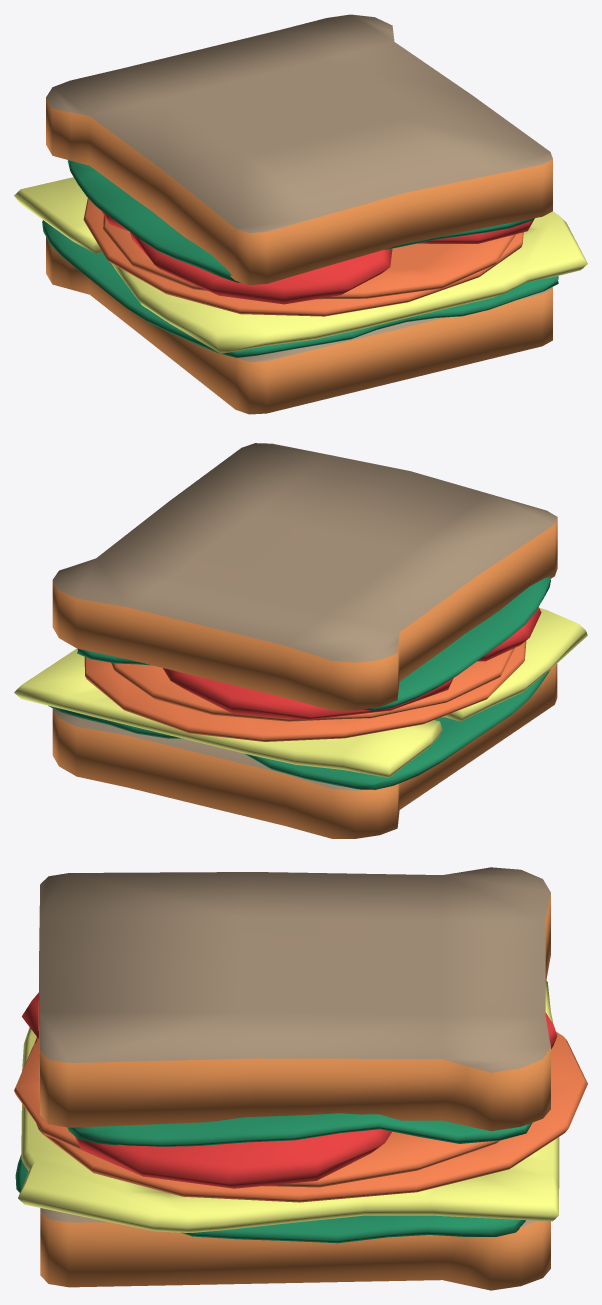
File: sandwich.glb
The picture shows the model from 3 angles, top to bottom: view 1: azimuth 30°, elevation 25°; view 2: azimuth 150°, elevation 25°; view 3: azimuth 270°, elevation 25°; orthographic projection. The views are drawn at different scales.
Visible parts, largest first — view 1: Sandwich; view 2: Sandwich; view 3: Sandwich.
Part boxes in pixels (box(x1,y1,x2,y2)): Sandwich: box(14, 14, 587, 414); Sandwich: box(14, 443, 587, 838); Sandwich: box(14, 867, 587, 1290).
Bounding box in the file's own units: 0.2034 × 0.0912 × 0.2044.
Materials: 1 (1 with a texture image).
